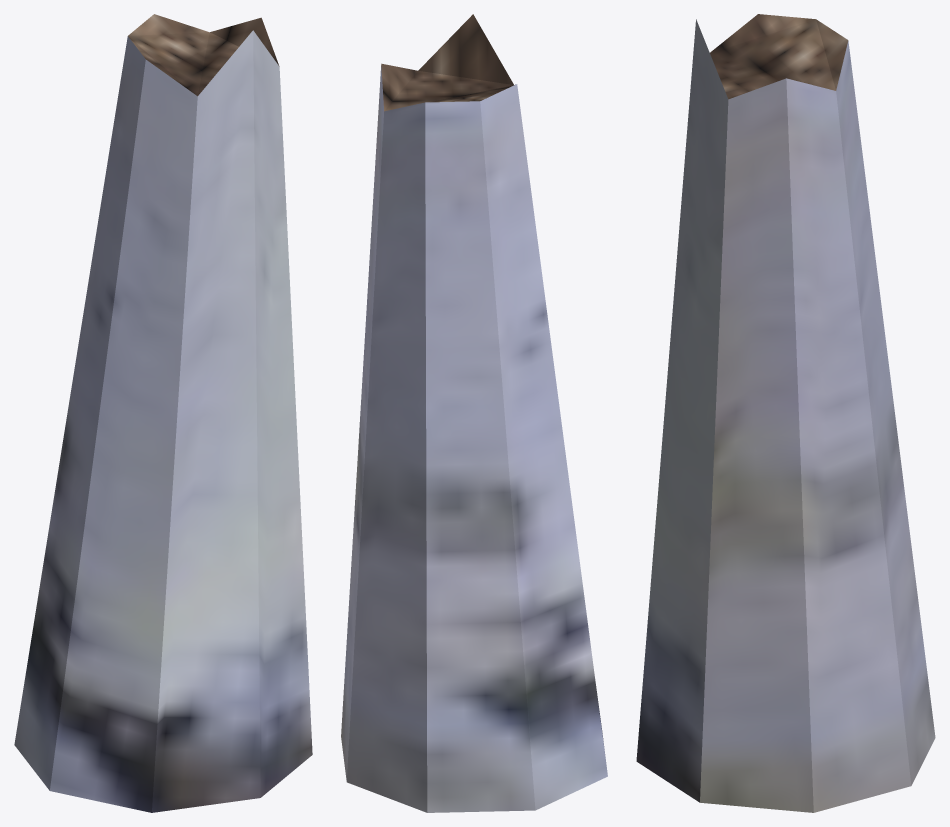
The model's file is Birch_Dead_002.fbx.
3 views of the same model, side by side, from view 1: azimuth 30°, elevation 25°; view 2: azimuth 150°, elevation 25°; view 3: azimuth 270°, elevation 25° (orthographic). The views are drawn at different scales.
Parts seen in each view (by area): view 1: Tree_Birch_Dead2; view 2: Tree_Birch_Dead2; view 3: Tree_Birch_Dead2.
Part boxes in pixels (x1,y1,x2,y2): Tree_Birch_Dead2: (14,14,312,812); Tree_Birch_Dead2: (341,14,607,812); Tree_Birch_Dead2: (636,14,935,812).
Size of the model in its own units: 86.77 by 241 by 86.77.
